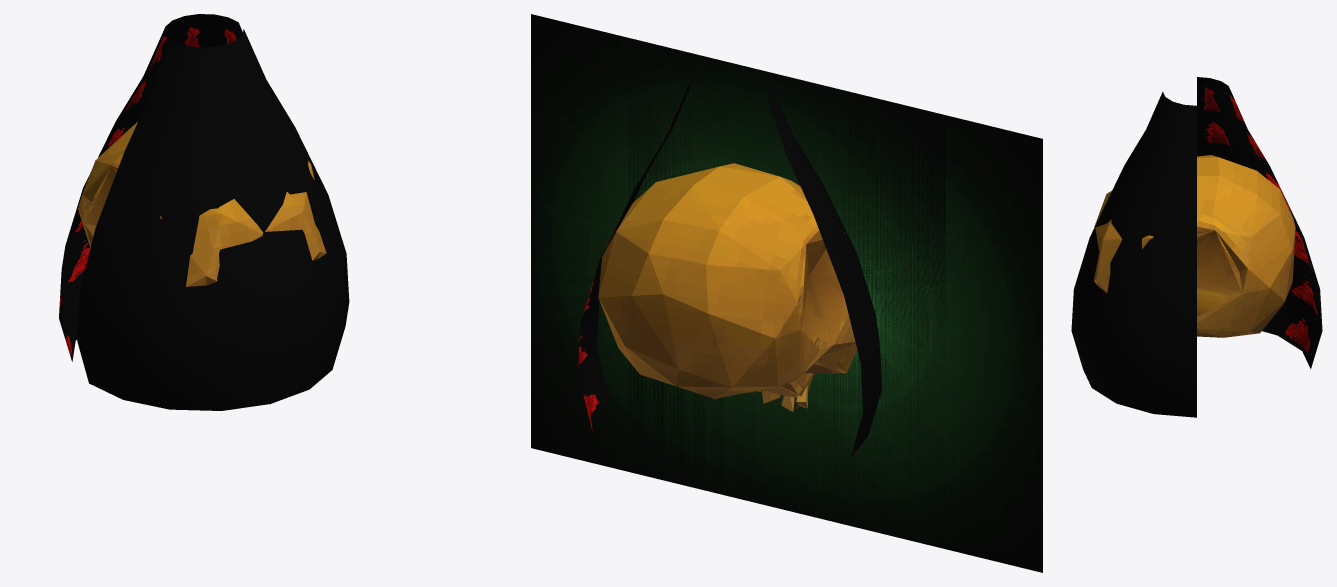
Rendered from item_flamethrower_skull.glb.
3 views of the same model, side by side, from view 1: azimuth 30°, elevation 25°; view 2: azimuth 150°, elevation 25°; view 3: azimuth 270°, elevation 25° (orthographic). The views are drawn at different scales.
Parts seen in each view (by area): view 1: FireMesh, GoldSkull; view 2: Quad (×2), GoldSkull, FireMesh; view 3: FireMesh, GoldSkull.
Part boxes in pixels (x1,y1,x2,y2): FireMesh: (59, 14, 349, 410); GoldSkull: (78, 122, 326, 404); Quad (×2): (531, 14, 1042, 572); GoldSkull: (598, 163, 857, 411); FireMesh: (577, 80, 882, 456); FireMesh: (1071, 77, 1322, 417); GoldSkull: (1094, 155, 1295, 337).
Size of the model in its own units: 0.4936 by 0.4278 by 0.2565.
Materials: 3 (3 with a texture image).
